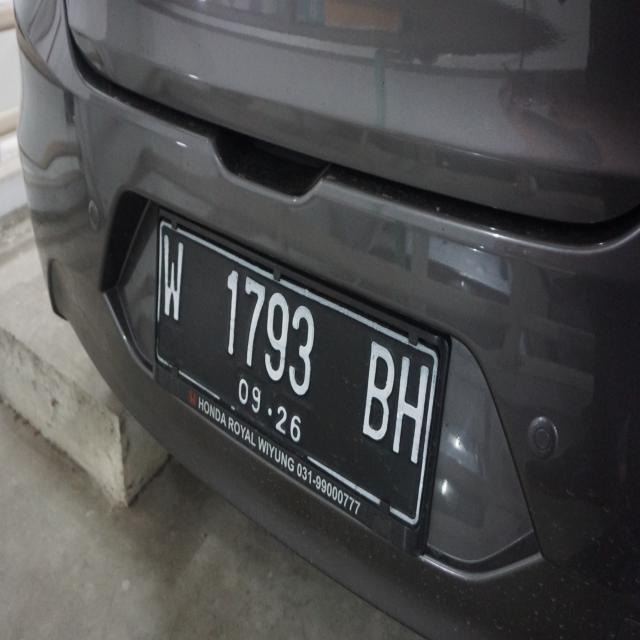1: (218, 258, 242, 362)
3: (286, 297, 318, 407)
7: (238, 271, 266, 373)
9: (265, 282, 293, 388)
B: (354, 328, 396, 452)
H: (385, 346, 433, 476)
W: (152, 228, 192, 338)
